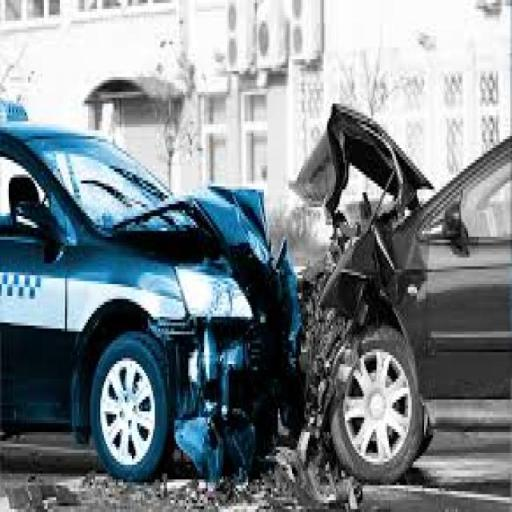小汽车撞小汽车: (14, 129, 512, 476)
